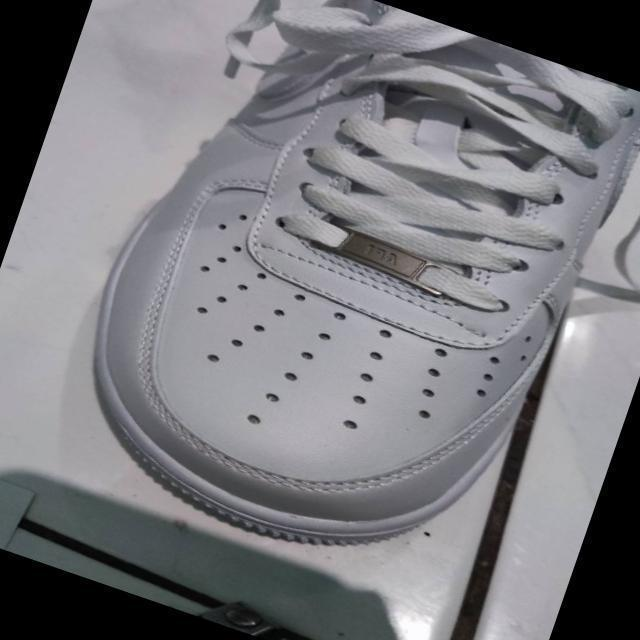nike fake air force: (37, 0, 640, 611)
